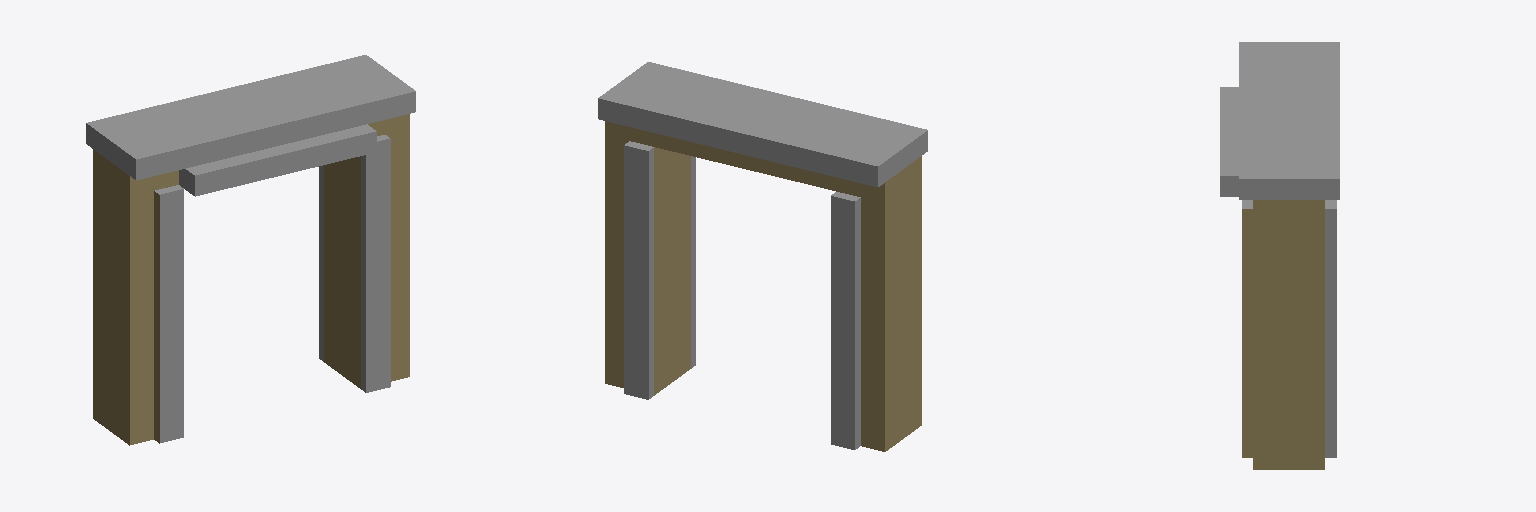
The model's file is mon.obj.
The picture shows the model from 3 angles: view 1: azimuth 30°, elevation 25°; view 2: azimuth 150°, elevation 25°; view 3: azimuth 270°, elevation 25°; orthographic projection.
Visible parts, largest first — view 1: Cube; view 2: Cube; view 3: Cube.
Part boxes in pixels (x1,y1,x2,y2): Cube: (86, 55, 415, 445); Cube: (598, 62, 927, 451); Cube: (1220, 42, 1339, 469).
Size of the model in its own units: 1.9 by 1.88 by 0.7009.